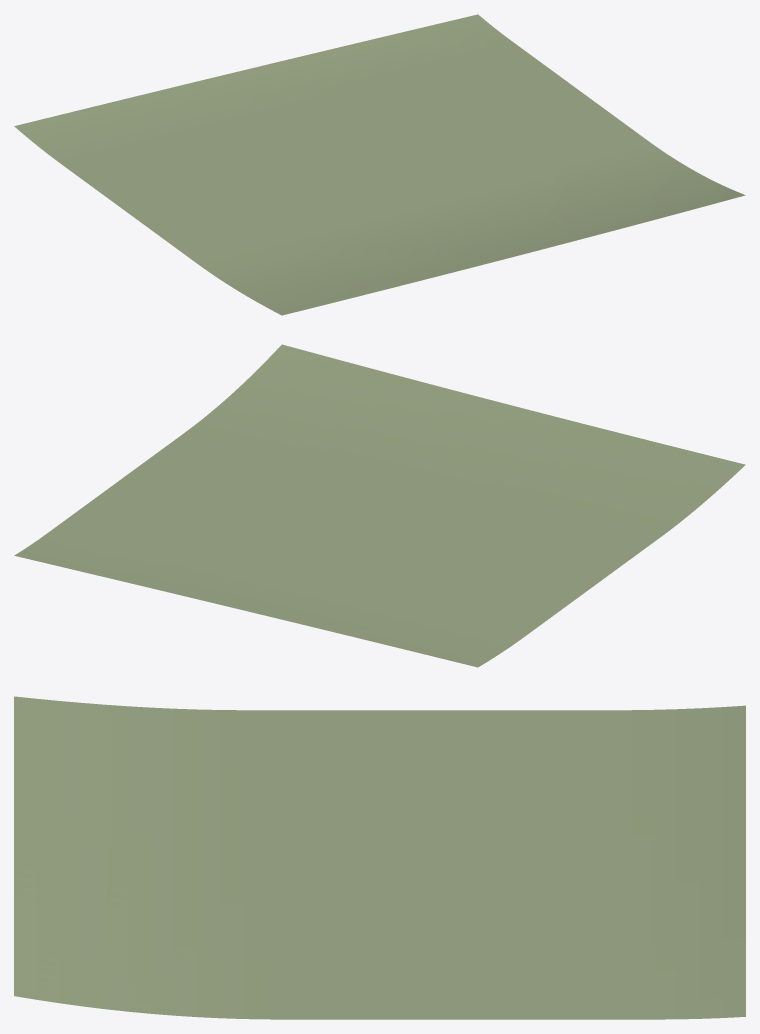
The model's file is valley-14-8.glb.
3 views of the same model, one above another, from view 1: azimuth 30°, elevation 25°; view 2: azimuth 150°, elevation 25°; view 3: azimuth 270°, elevation 25° (orthographic). The views are drawn at different scales.
Visible parts, largest first — view 1: valley-14-8; view 2: valley-14-8; view 3: valley-14-8.
Part boxes in pixels (<box>): valley-14-8: <box>14,14,745,315</box>; valley-14-8: <box>14,344,745,667</box>; valley-14-8: <box>14,696,745,1019</box>.
Size of the model in its own units: 256 by 9.05 by 256.
